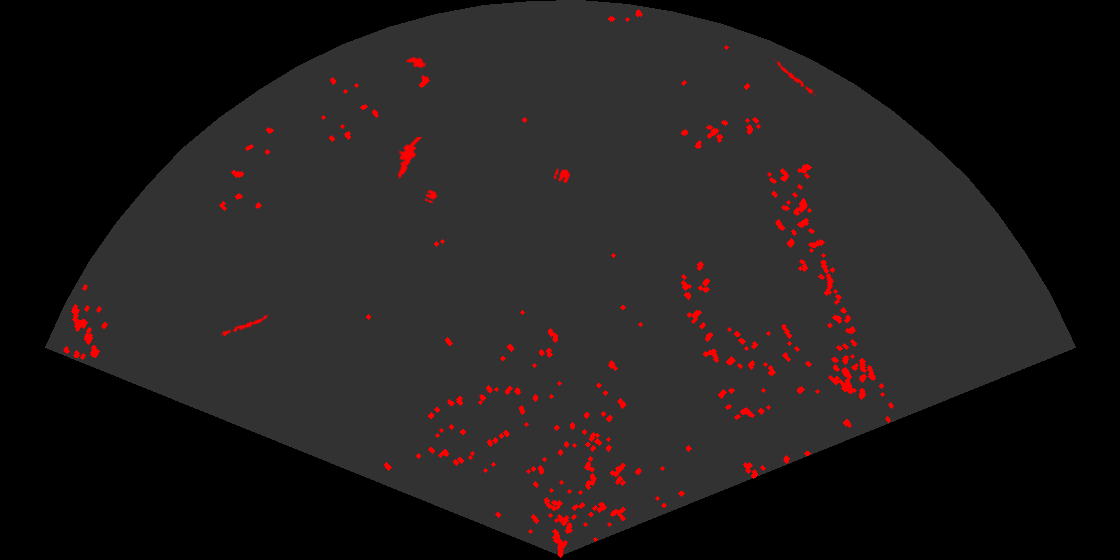AUV: (404, 55, 428, 69)
ball: (552, 167, 572, 185), (423, 188, 439, 205)
chain: (771, 58, 816, 98), (220, 312, 273, 338)
frogman: (395, 137, 424, 180)
